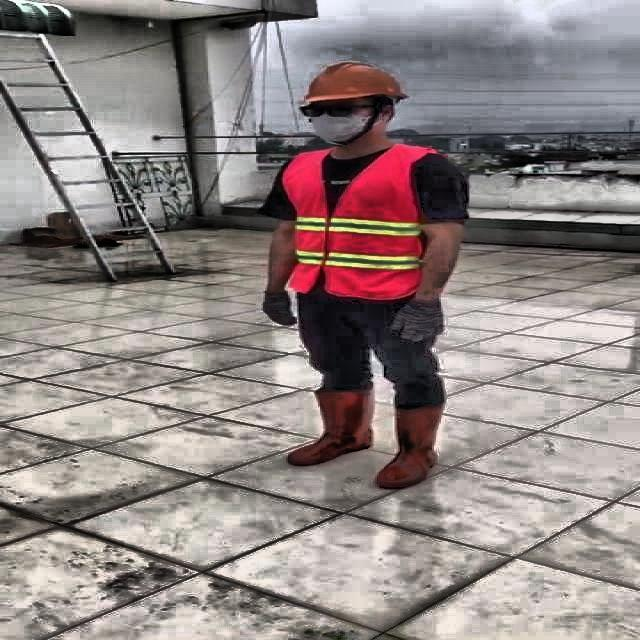safety_helmet: (294, 60, 412, 104)
safety_jacket: (281, 145, 443, 301)
